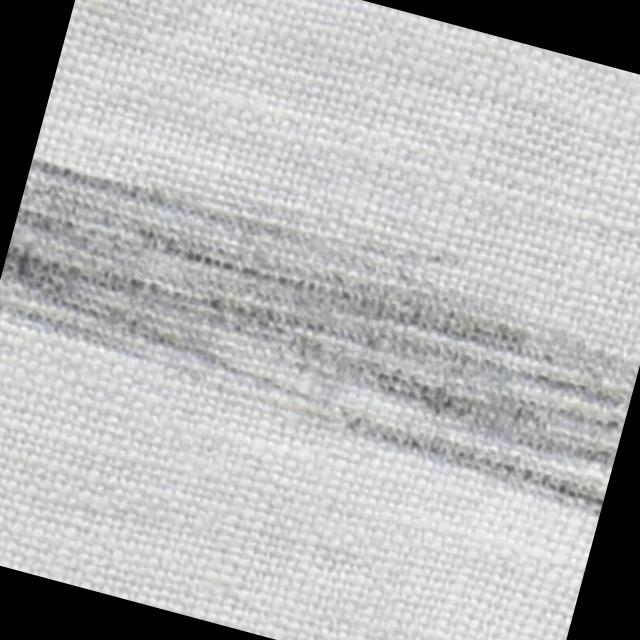Stain: (0, 119, 640, 520)
